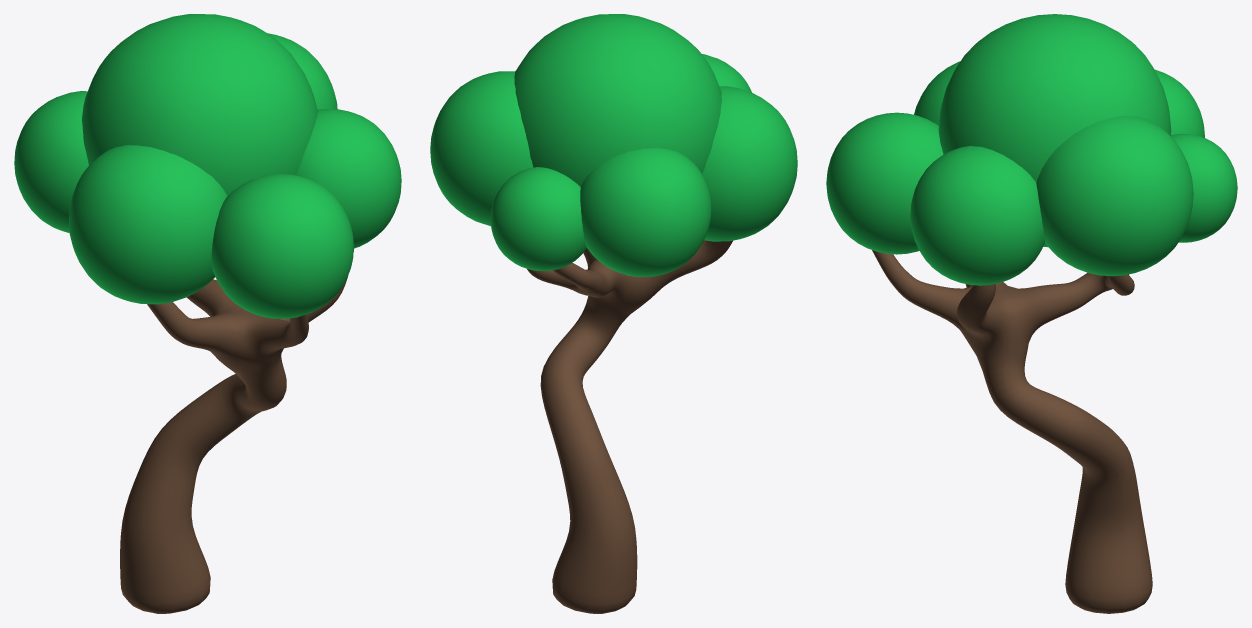
Rendered from treebig.fbx.
3 views of the same model, side by side, from view 1: azimuth 30°, elevation 25°; view 2: azimuth 150°, elevation 25°; view 3: azimuth 270°, elevation 25° (orthographic). The views are drawn at different scales.
Visible parts, largest first — view 1: Cube.018; view 2: Cube.018; view 3: Cube.018.
Boxes of the visible parts, left/top/right/bottom form: Cube.018: left=14, top=14, right=401, bottom=613; Cube.018: left=430, top=14, right=797, bottom=613; Cube.018: left=826, top=14, right=1237, bottom=613.
Bounding box in the file's own units: 1519 × 2818 × 1802.
